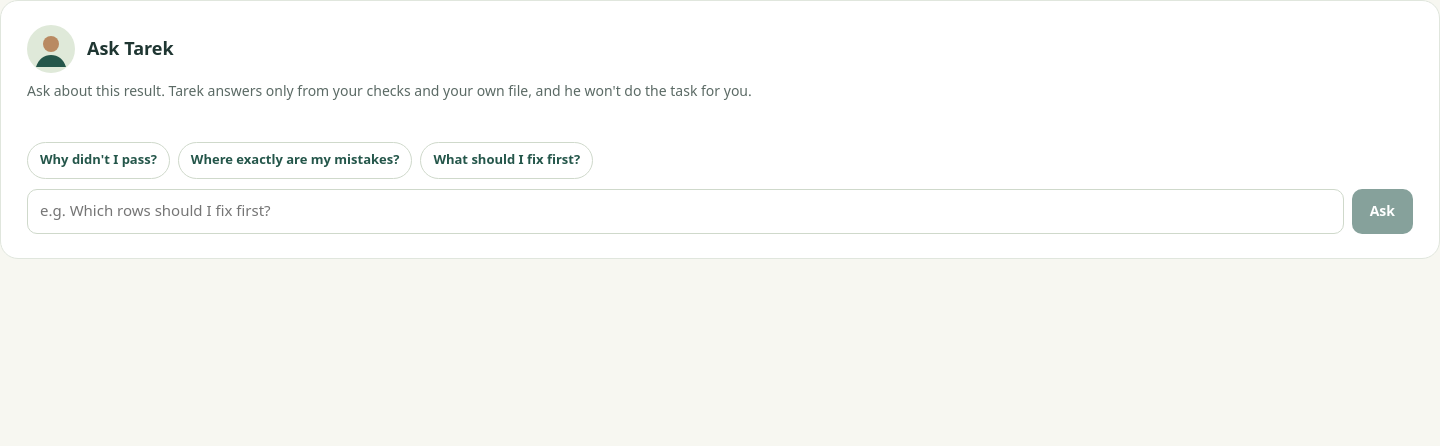
AskTarek › asks a suggested question in the interface language and shows a grounded answer
Click the button "Where exactly are my mistakes?". click: (295, 160)
box: [178, 142, 412, 179]
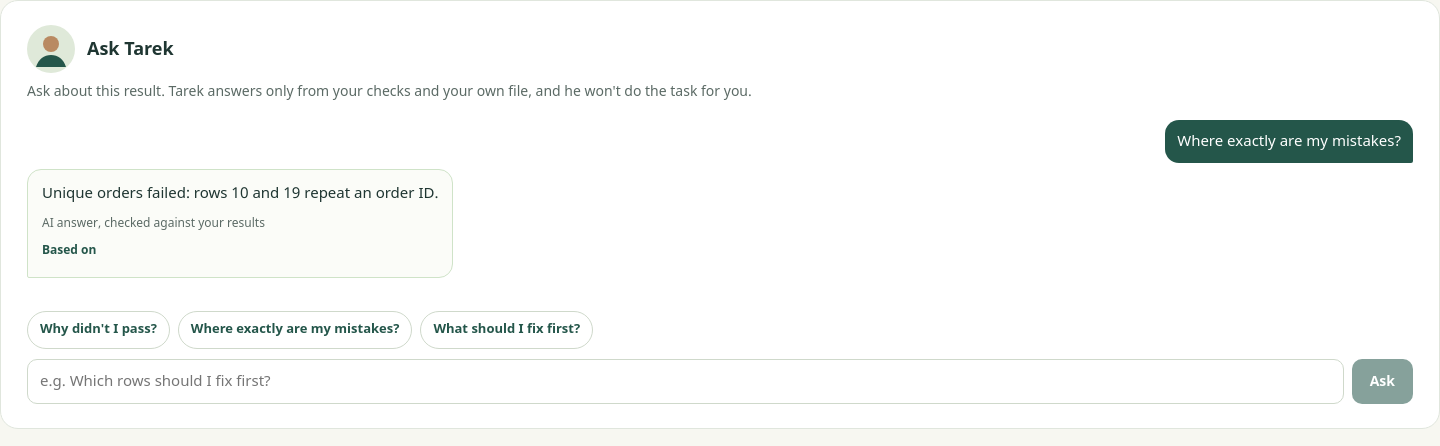
Expected: the text "Unique orders failed: rows 10 and 19 repeat an order ID." is shown, [42, 180, 438, 207]
Expected: the text "AI answer, checked against your results" is shown, [42, 211, 265, 236]
